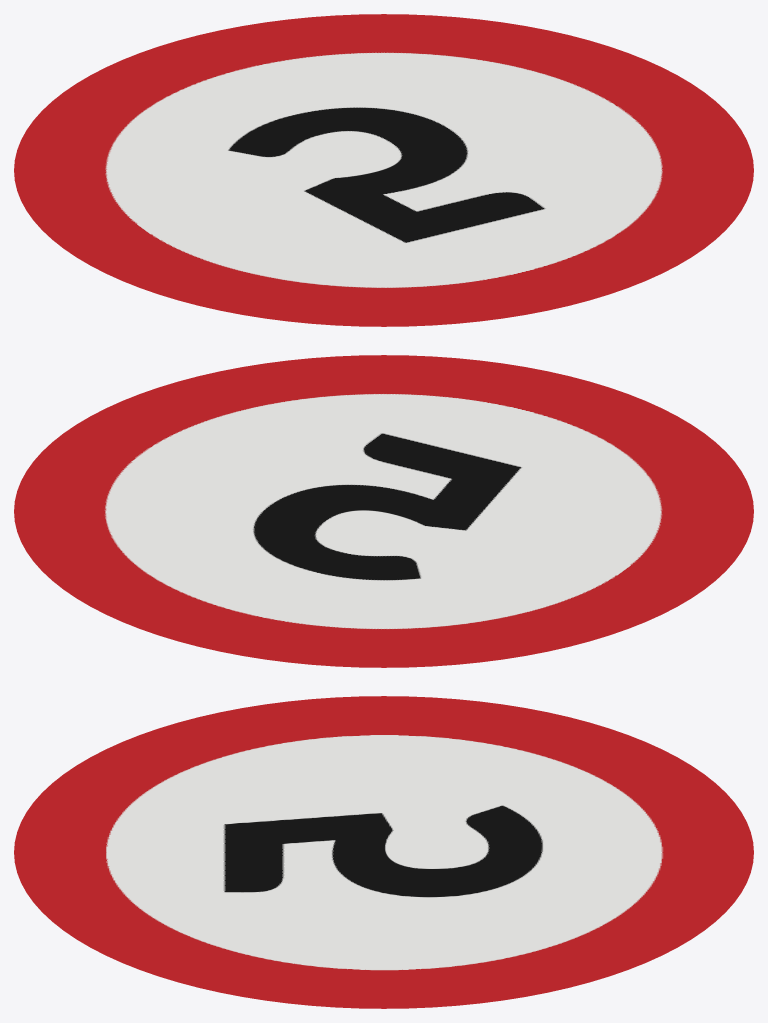
File: stage_05.obj
The picture shows the model from 3 angles, top to bottom: view 1: azimuth 30°, elevation 25°; view 2: azimuth 150°, elevation 25°; view 3: azimuth 270°, elevation 25°; orthographic projection.
Visible parts, largest first — view 1: stage_05; view 2: stage_05; view 3: stage_05.
Part boxes in pixels (left/top/right/bottom): stage_05: left=14, top=14, right=753, bottom=326; stage_05: left=14, top=355, right=753, bottom=667; stage_05: left=14, top=696, right=753, bottom=1008.
Size of the model in its own units: 0.6 by 0 by 0.6.
1 material, 1 textured.
